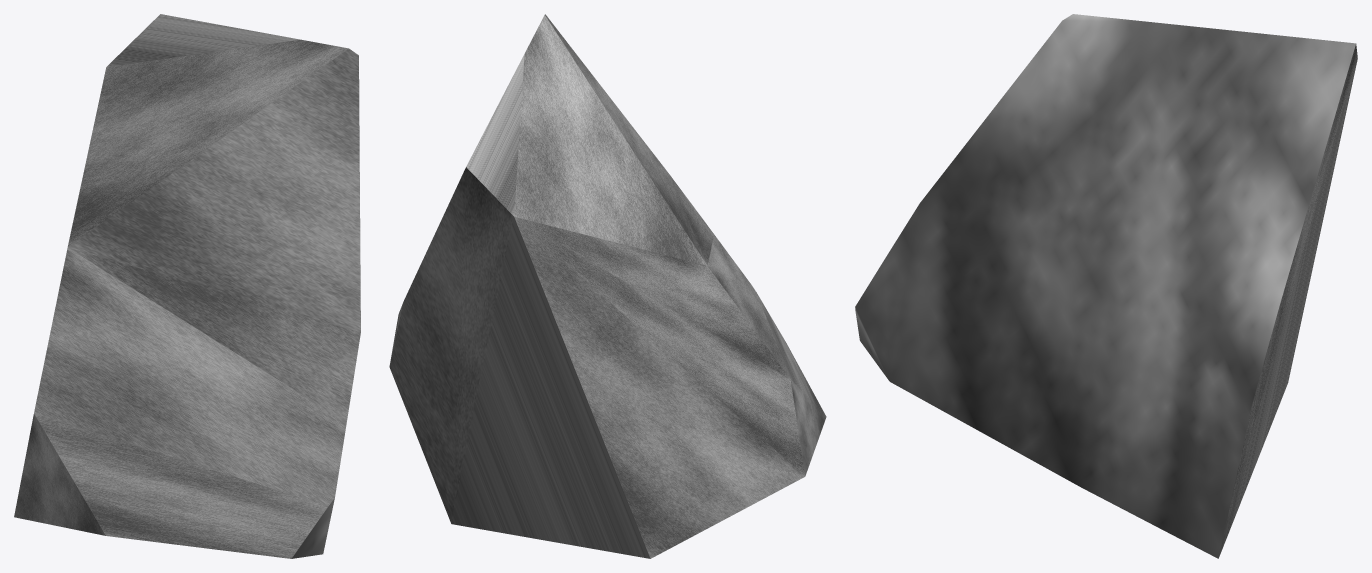
File: body_cell_022.fbx
3 views of the same model, side by side, from view 1: azimuth 30°, elevation 25°; view 2: azimuth 150°, elevation 25°; view 3: azimuth 270°, elevation 25° (orthographic). The views are drawn at different scales.
Visible parts, largest first — view 1: body_cell.022; view 2: body_cell.022; view 3: body_cell.022.
Part boxes in pixels (box(x1,y1,x2,y2)): body_cell.022: box(14, 14, 360, 558); body_cell.022: box(389, 14, 826, 558); body_cell.022: box(855, 14, 1357, 558).
Bounding box in the file's own units: 35.2 × 43.82 × 37.73.
